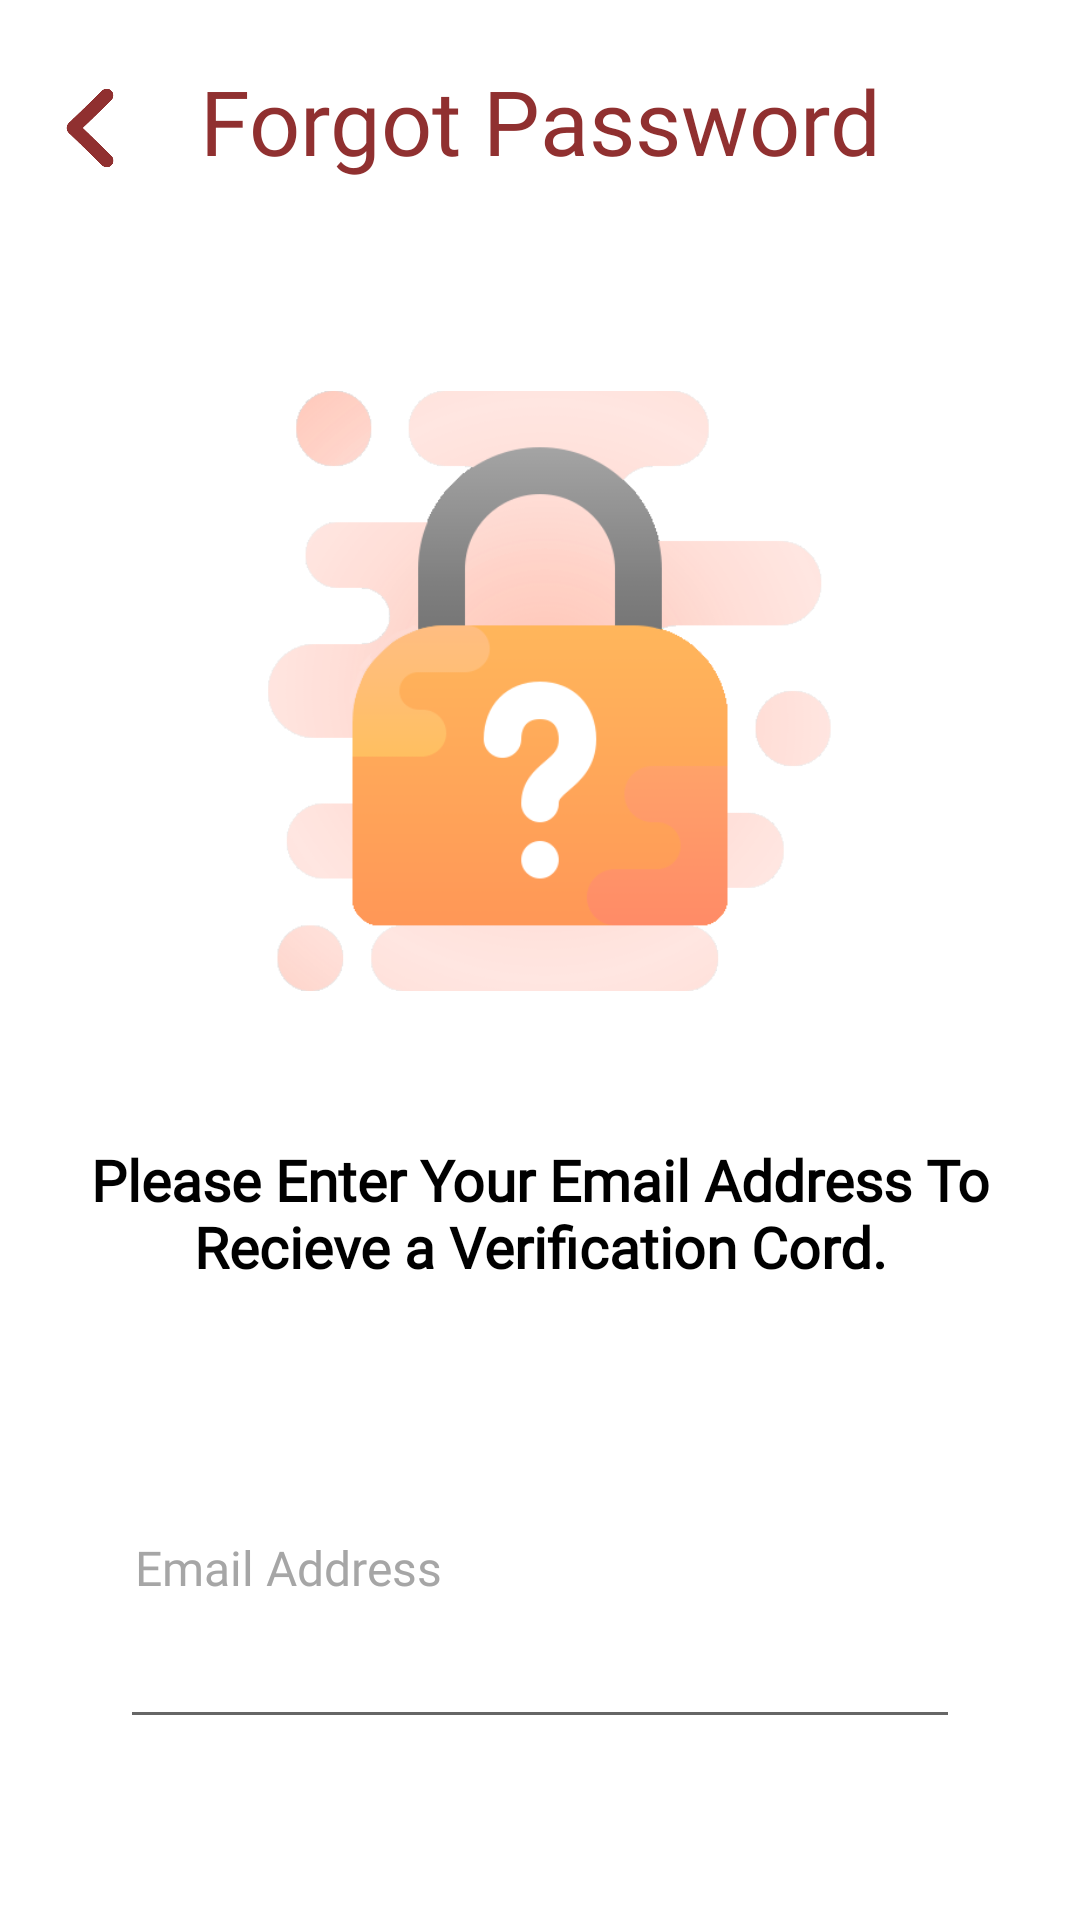

Named icons in this screenshot (1080x1920) and their bounding boxes, (x1, y1, x2, y2):
back: (66, 89, 114, 167)
